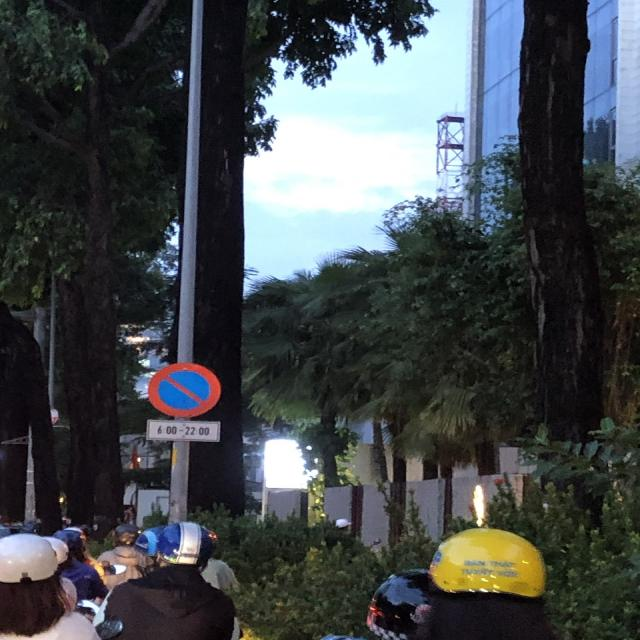Bien bao cam do xe: (139, 355, 228, 422)
